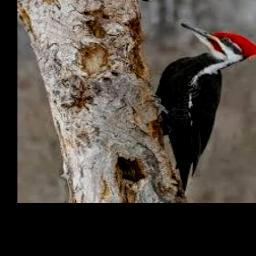Woodpecker: (154, 22, 256, 193)
